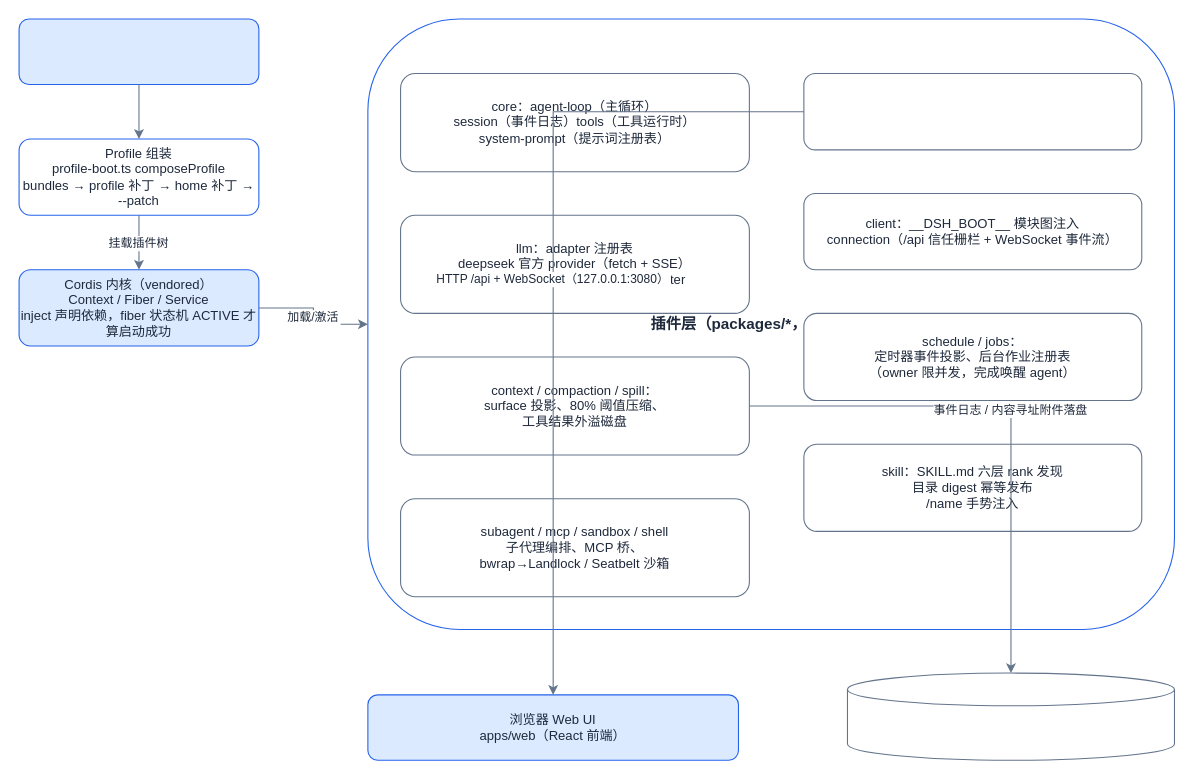
This 1194x779 diagram has some shape labels left out. Each missing label, with the centre of its shape:
"$DSH_HOME（~/.dsh） settings.yaml / profiles / sessions / objects" goes at point 1010,716.
"dsh 启动器 apps/cli/src/bin.ts" goes at point 138,51.
"host：webserver（路由/SPA） apiproxy（传输无关 RPC 网关）" goes at point 972,111.
